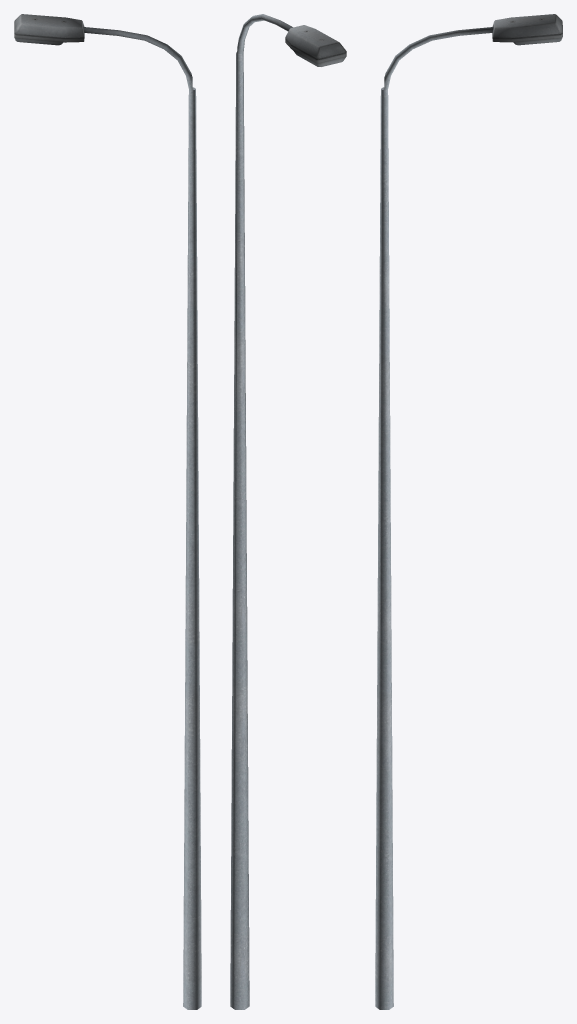
Rendered from Lamp.obj.
The picture shows the model from 3 angles, left to right: view 1: azimuth 90°, elevation 25°; view 2: azimuth 210°, elevation 25°; view 3: azimuth 270°, elevation 25°; orthographic projection. The views are drawn at different scales.
Visible parts, largest first — view 1: Lamp05; view 2: Lamp05; view 3: Lamp05.
Boxes of the visible parts, x1,y1,x2,y2 form: Lamp05: (14,14,201,1009); Lamp05: (230,14,346,1009); Lamp05: (375,14,562,1009).
Size of the model in its own units: 2.05 by 67.08 by 11.54.
1 material, 1 textured.
